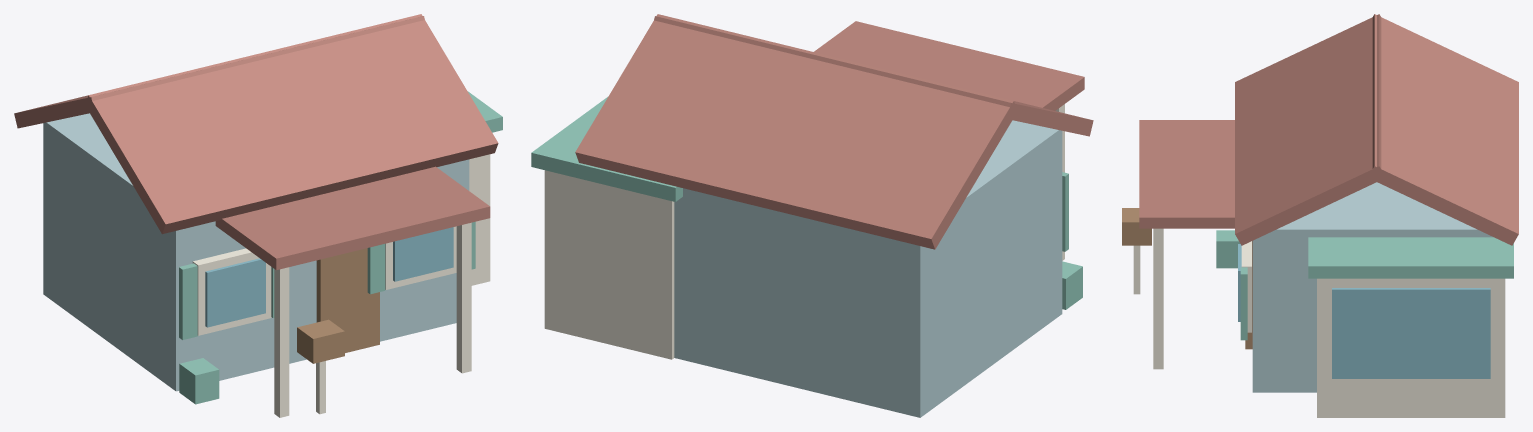
Rendered from home-12.glb.
The picture shows the model from 3 angles, left to right: view 1: azimuth 30°, elevation 25°; view 2: azimuth 150°, elevation 25°; view 3: azimuth 270°, elevation 25°; orthographic projection. The views are drawn at different scales.
Parts seen in each view (by area): view 1: pitched roof.003, individual walls.009, letterbox post.009, front door.012, sun room glass, flower planter.009; view 2: pitched roof.003, individual walls.009, letterbox post.009, flower planter.009; view 3: pitched roof.003, individual walls.009, sun room glass, letterbox post.009, flower planter.009, front door.012.
Boxes of the visible parts, x1,y1,x2,y2 form: pitched roof.003: [14, 14, 498, 270]; individual walls.009: [43, 113, 469, 391]; letterbox post.009: [192, 154, 490, 417]; front door.012: [297, 248, 379, 363]; sun room glass: [205, 227, 453, 327]; flower planter.009: [179, 91, 502, 404]; pitched roof.003: [575, 14, 1093, 249]; individual walls.009: [674, 120, 1062, 417]; letterbox post.009: [544, 104, 1064, 359]; flower planter.009: [531, 97, 1082, 309]; pitched roof.003: [1139, 14, 1518, 245]; individual walls.009: [1252, 182, 1493, 392]; sun room glass: [1238, 244, 1490, 378]; letterbox post.009: [1133, 228, 1505, 417]; flower planter.009: [1216, 230, 1513, 340]; front door.012: [1122, 208, 1252, 349].
Size of the model in its own units: 4.75 by 3.03 by 4.63.
